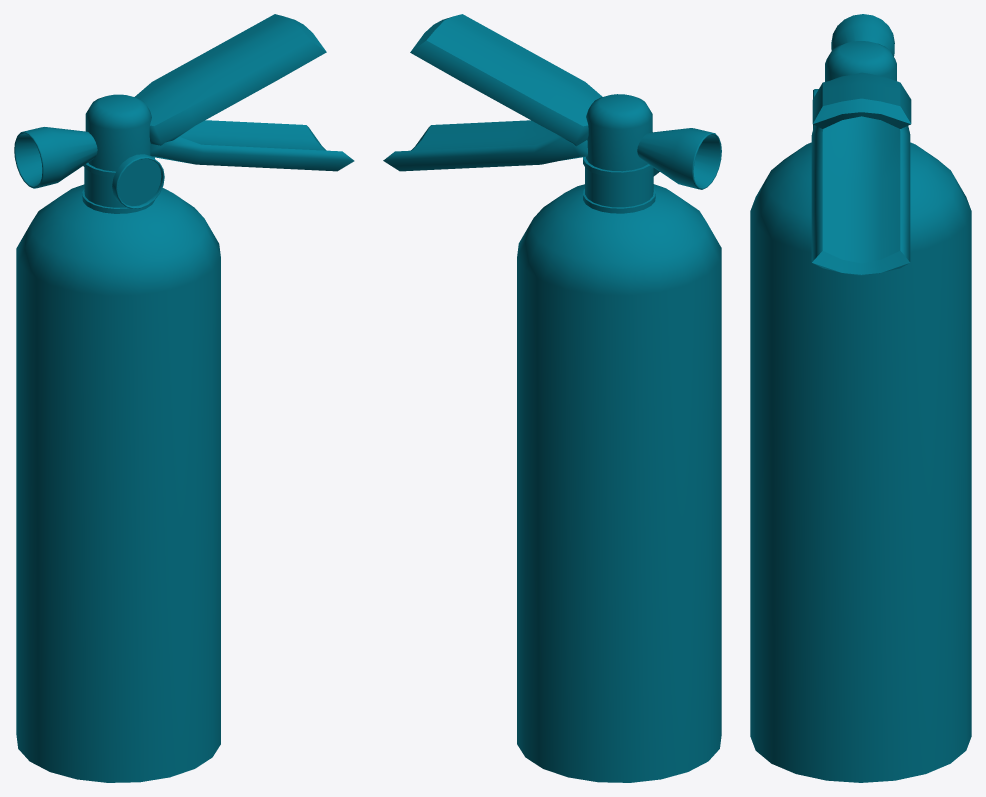
File: FireEXTinguisher.fbx
The picture shows the model from 3 angles, left to right: view 1: azimuth 30°, elevation 25°; view 2: azimuth 150°, elevation 25°; view 3: azimuth 270°, elevation 25°; orthographic projection. The views are drawn at different scales.
Parts seen in each view (by area): view 1: fireextinguisher; view 2: fireextinguisher; view 3: fireextinguisher.
Boxes of the visible parts, <box> form: fireextinguisher: <box>14,14,354,782</box>; fireextinguisher: <box>383,14,721,782</box>; fireextinguisher: <box>750,14,971,782</box>.
Bounding box in the file's own units: 0.3314 × 0.7079 × 0.1949.
